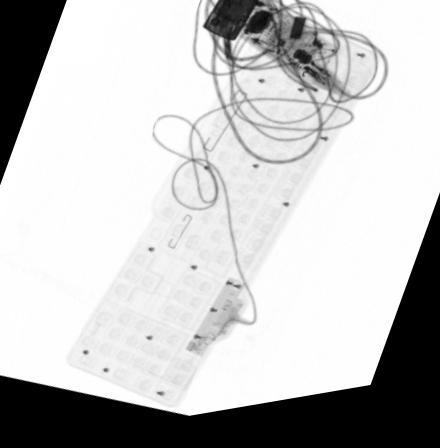Lighter: (202, 0, 260, 49)
